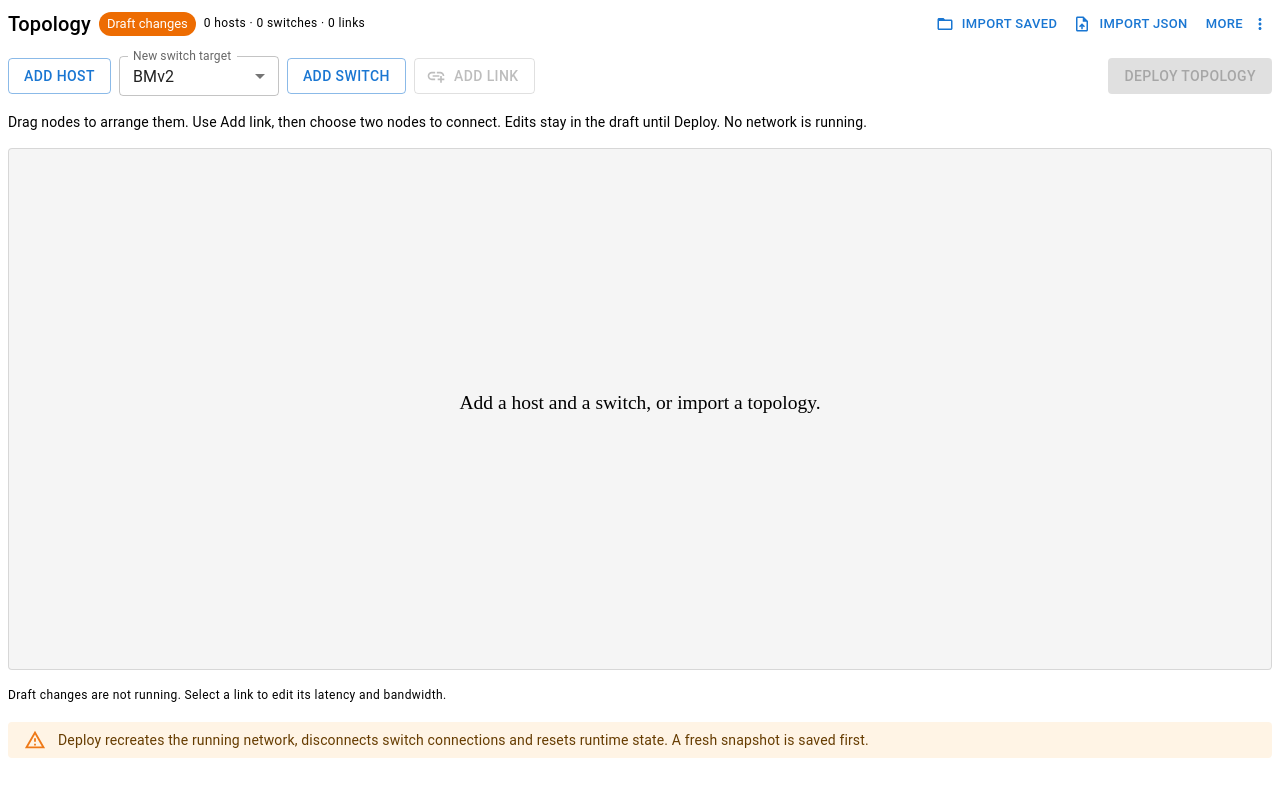
Test: keeps deployment warnings visible after refreshing the active topology
Click the button "Add switch" at (346, 76), box 287,58 -> 406,94
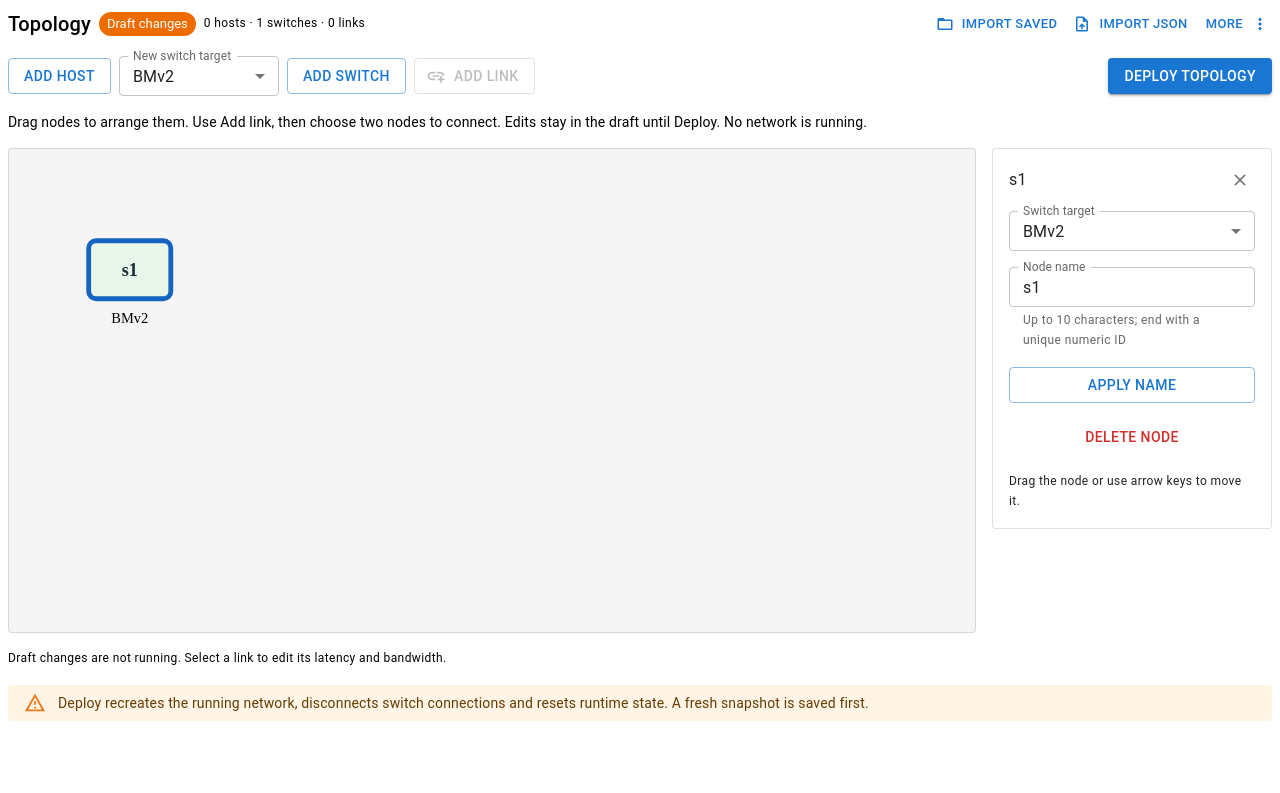
Click the button "Deploy topology" at (1190, 76), box 1108,58 -> 1272,94
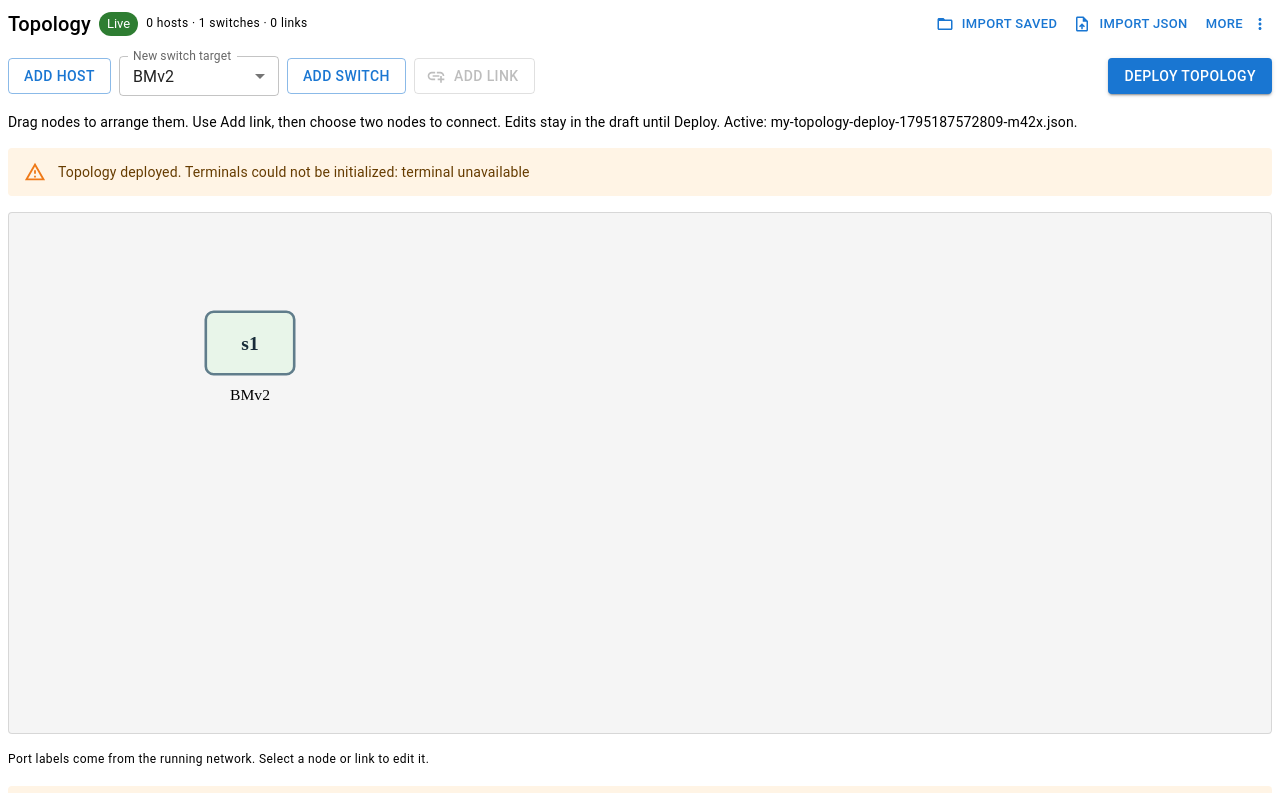
Check: the text "Topology deployed. Terminals could not be initialized: terminal unavailable" is shown, box 58,164 -> 530,180
